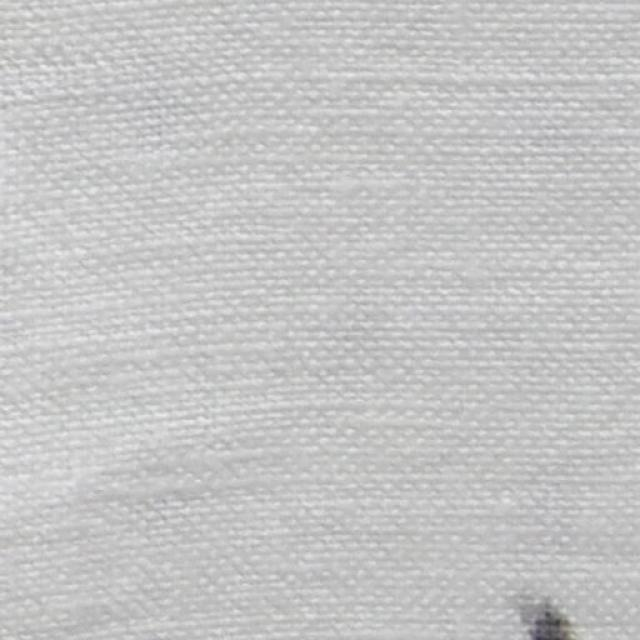Stain: (521, 601, 580, 640)
